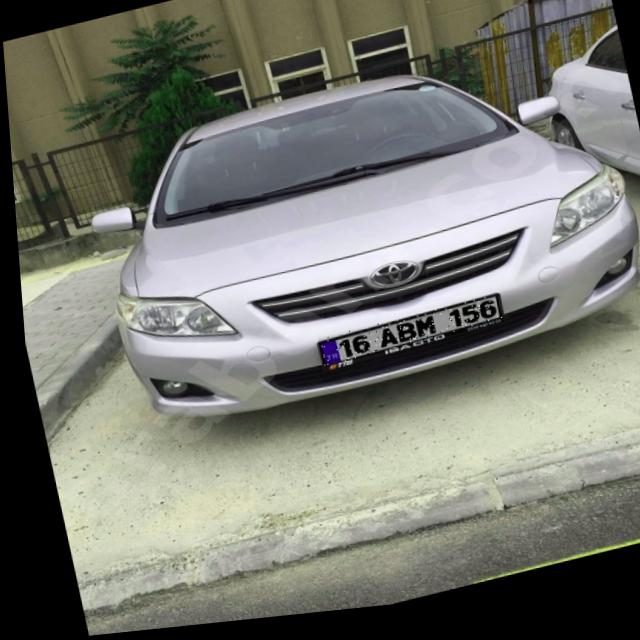license_plate: (310, 304, 500, 373)
